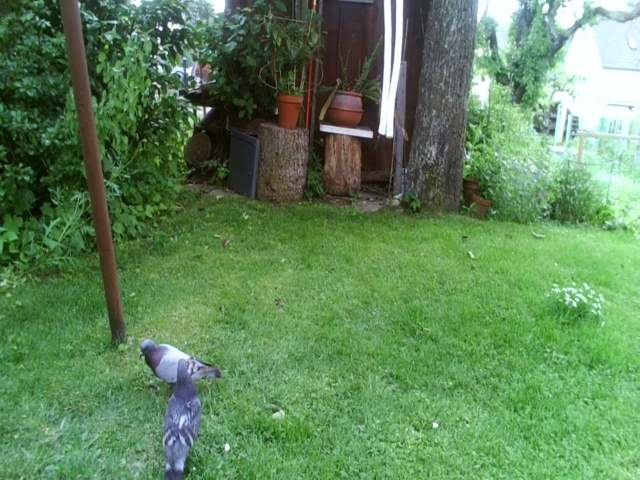Pigeon: (160, 360, 201, 478), (136, 337, 222, 387)
